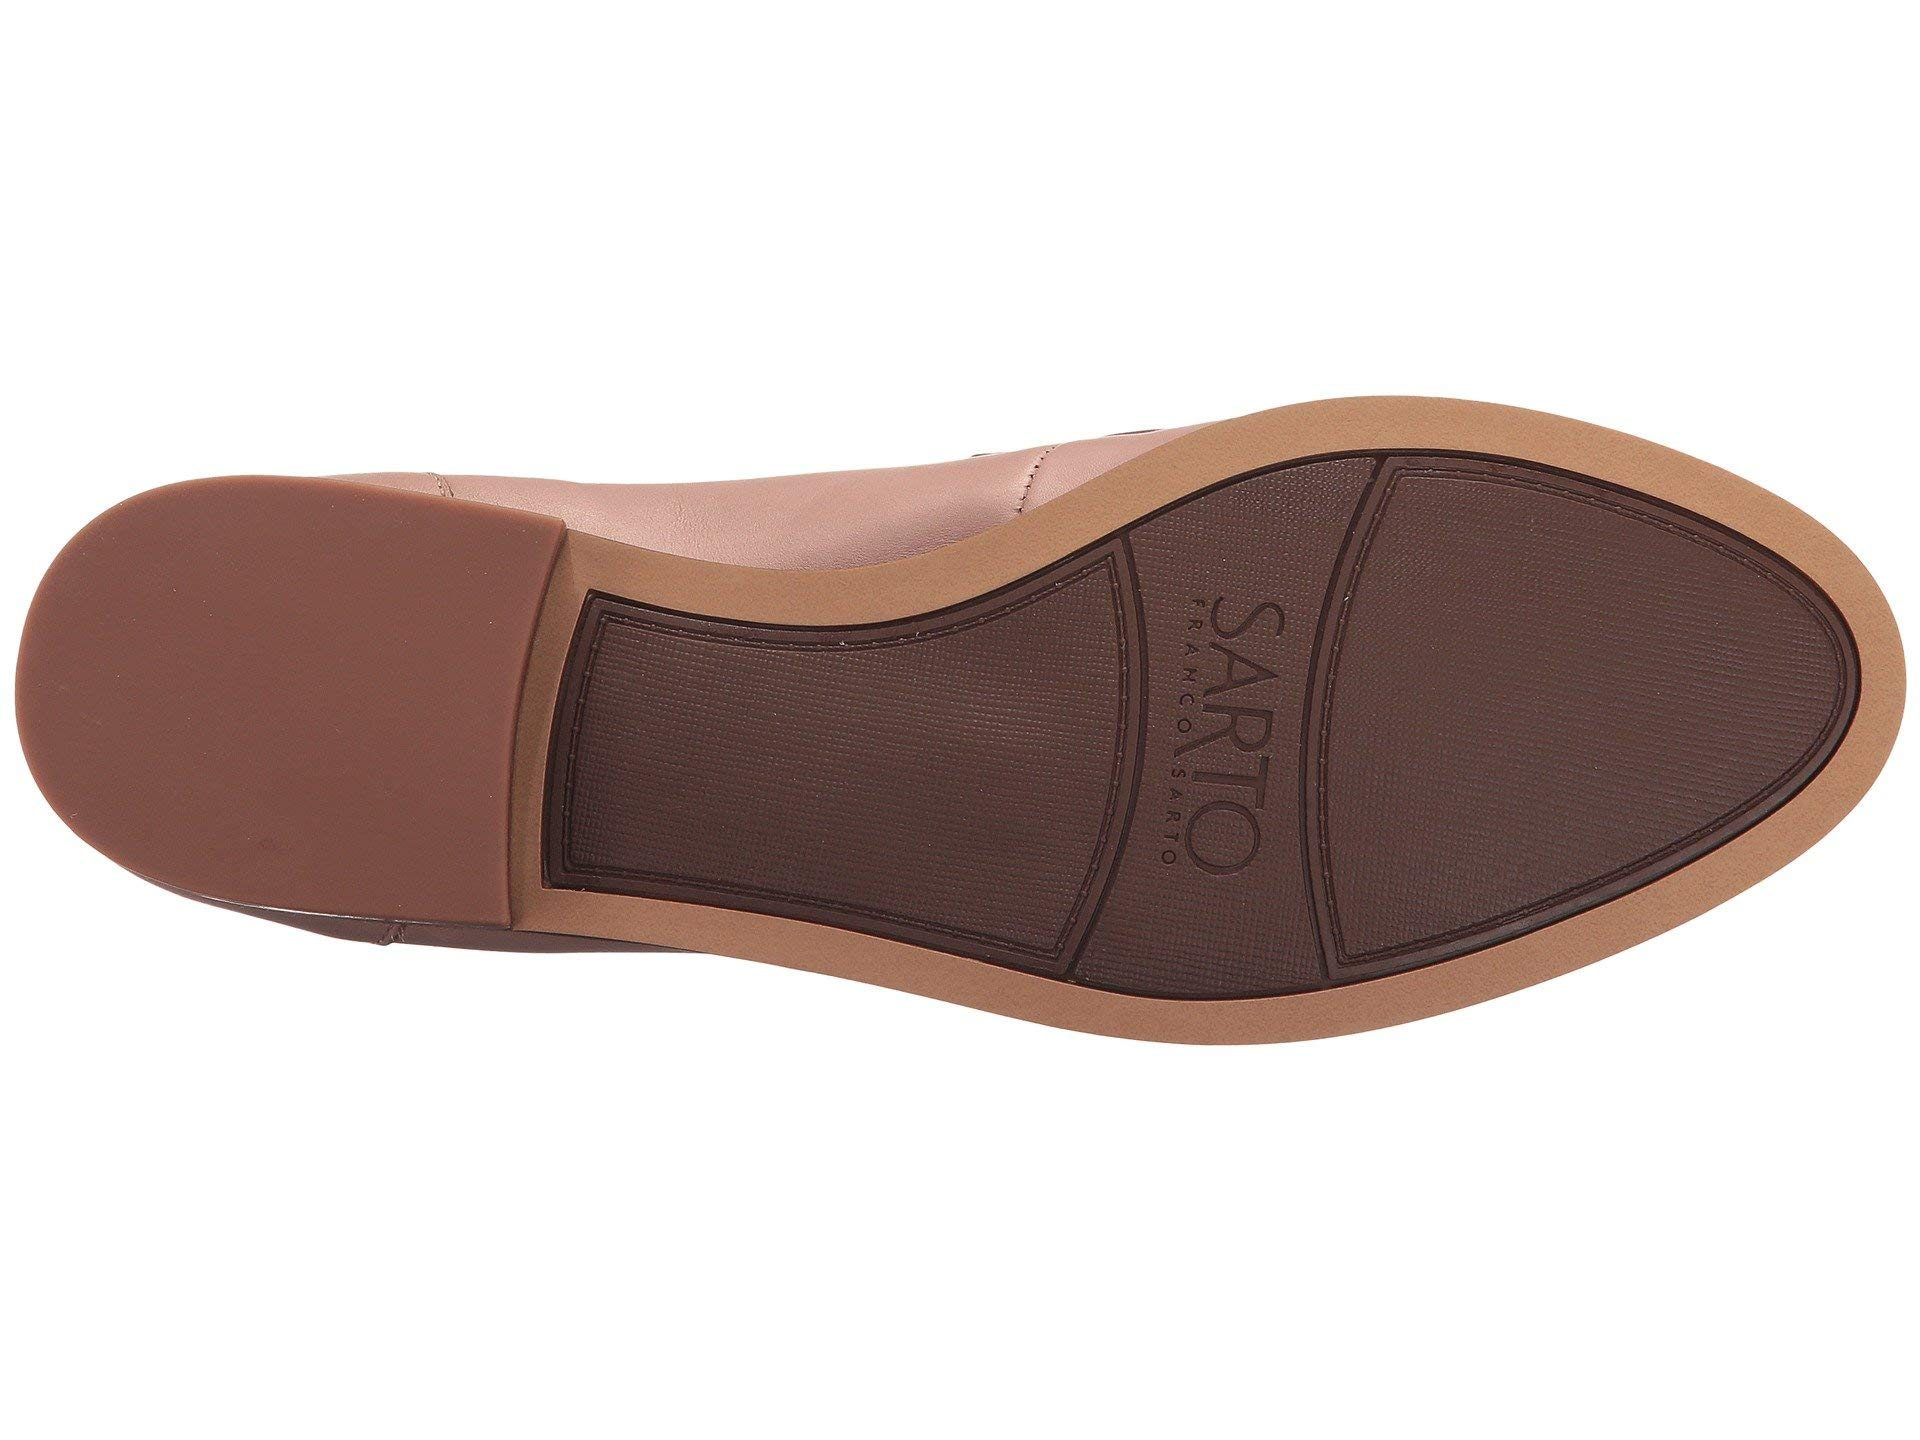circle: (1135, 554, 1294, 936)
line: (1418, 434, 1776, 870)
text: (1135, 554, 1294, 936)
